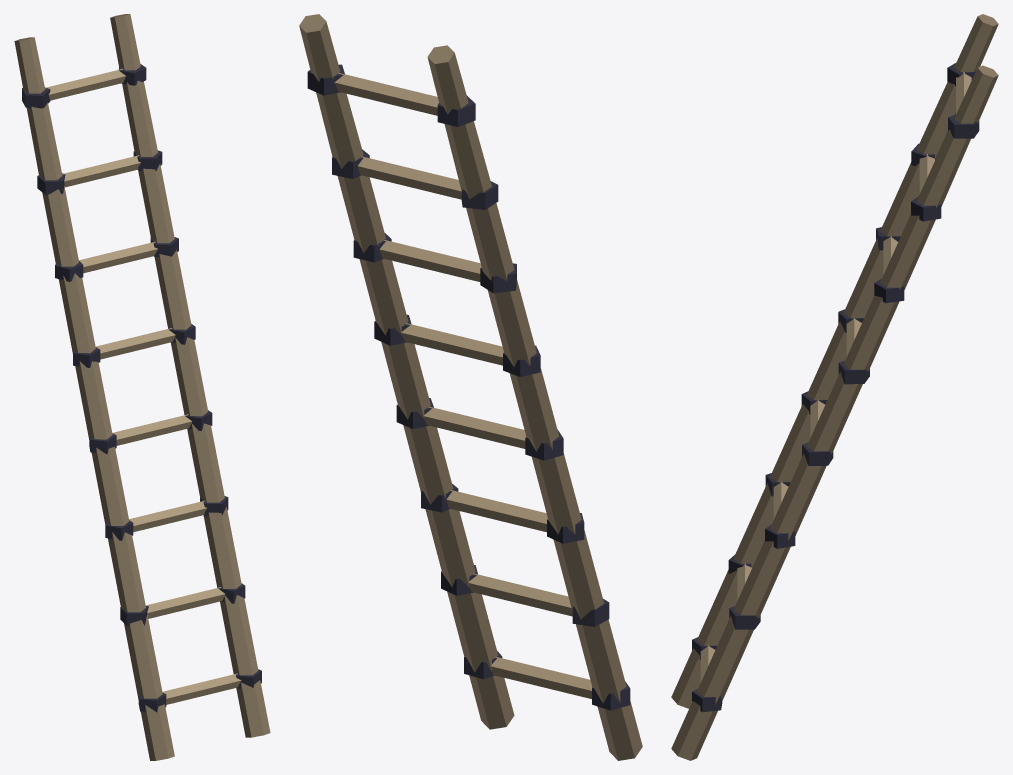
The model's file is keeper_ladder.glb.
The picture shows the model from 3 angles, left to right: view 1: azimuth 30°, elevation 25°; view 2: azimuth 150°, elevation 25°; view 3: azimuth 270°, elevation 25°; orthographic projection. The views are drawn at different scales.
Parts seen in each view (by area): view 1: driftwood_d30, driftwood_d15, ink_l10; view 2: driftwood_d30, driftwood_d15, ink_l10; view 3: driftwood_d30, ink_l10, driftwood_d15.
Boxes of the visible parts, bbox=[...] form: driftwood_d30: bbox=[14, 14, 270, 760]; driftwood_d15: bbox=[45, 69, 241, 704]; ink_l10: bbox=[22, 64, 261, 712]; driftwood_d30: bbox=[299, 14, 642, 760]; driftwood_d15: bbox=[334, 72, 592, 698]; ink_l10: bbox=[307, 64, 630, 710]; driftwood_d30: bbox=[671, 14, 998, 760]; ink_l10: bbox=[692, 63, 979, 712]; driftwood_d15: bbox=[700, 72, 971, 682].
Bounding box in the file's own units: 0.608 × 3 × 1.29.
